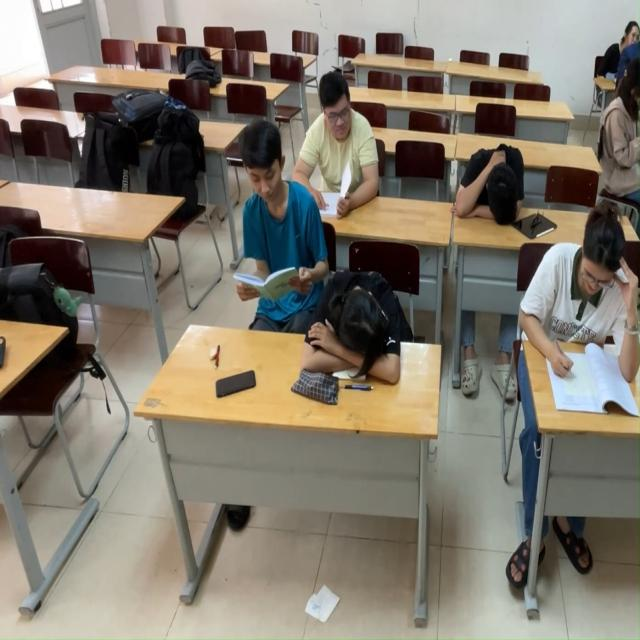read: (524, 184, 640, 429), (216, 116, 317, 319), (287, 58, 379, 221)
